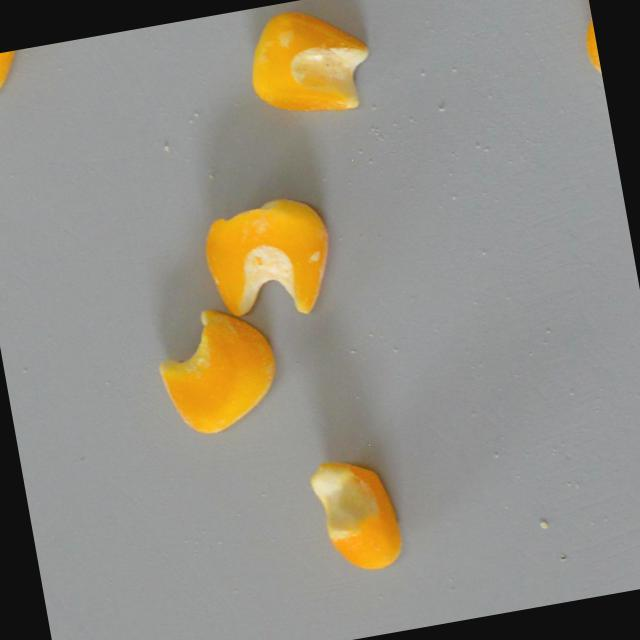dañado: (192, 184, 346, 331), (145, 296, 290, 442), (233, 0, 384, 133), (573, 3, 604, 93), (0, 47, 34, 94)
punto_negro: (302, 447, 410, 579)
